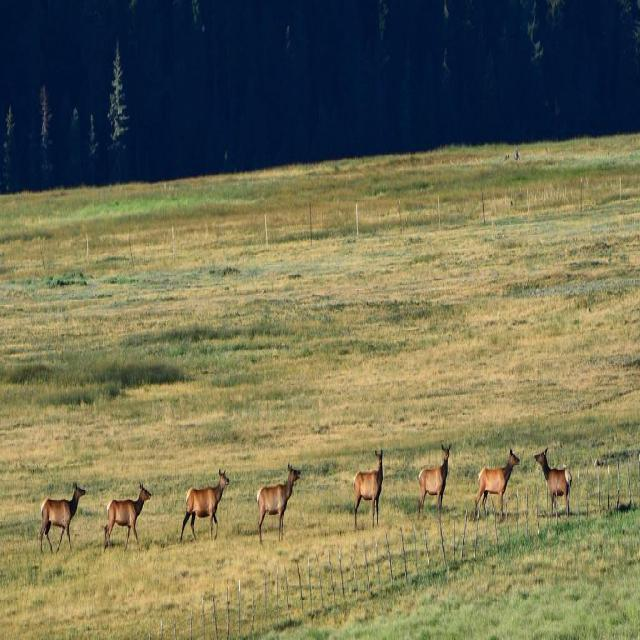Deer: (179, 468, 230, 540), (474, 448, 520, 522), (259, 464, 299, 540), (42, 482, 86, 550), (104, 485, 151, 540), (534, 444, 571, 508), (418, 444, 451, 508), (357, 444, 382, 524)
